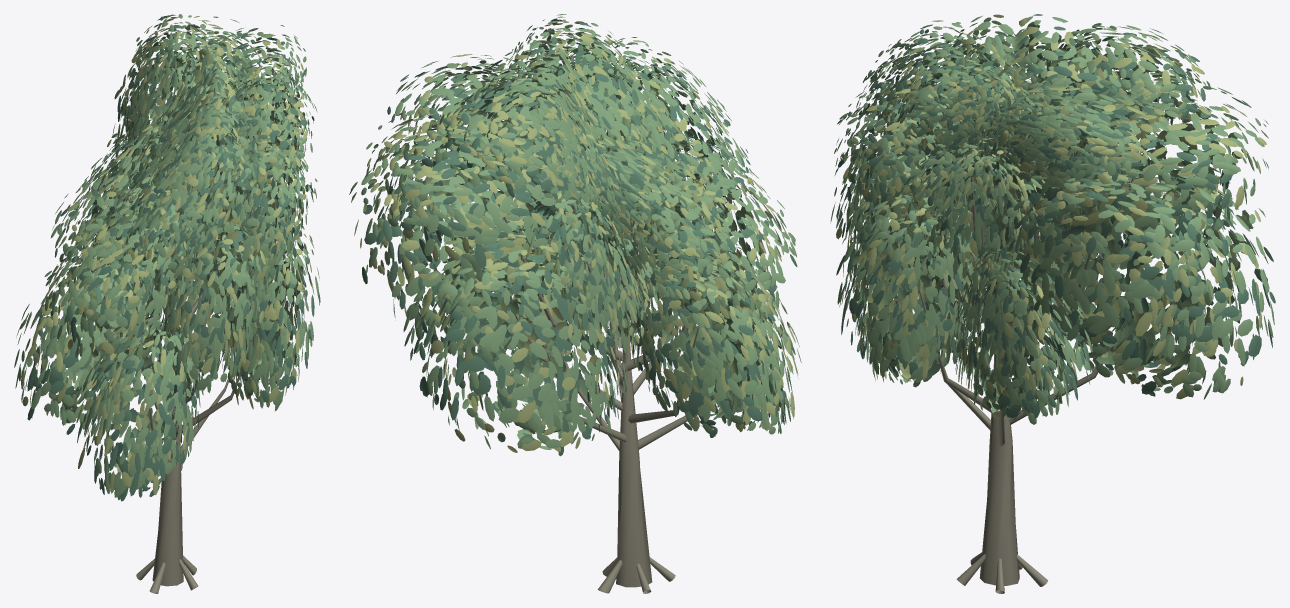
The model's file is grove_6.glb.
3 views of the same model, side by side, from view 1: azimuth 30°, elevation 25°; view 2: azimuth 150°, elevation 25°; view 3: azimuth 270°, elevation 25° (orthographic). The views are drawn at different scales.
Parts seen in each view (by area): view 1: study_canopy_0_StudyLeafJade, study_canopy_0_StudyLeafDeep, study_canopy_0_StudyLeafGold, study_canopy_0_StudyBark; view 2: study_canopy_0_StudyLeafJade, study_canopy_0_StudyLeafDeep, study_canopy_0_StudyLeafGold, study_canopy_0_StudyBark; view 3: study_canopy_0_StudyLeafJade, study_canopy_0_StudyLeafDeep, study_canopy_0_StudyLeafGold, study_canopy_0_StudyBark.
Part boxes in pixels (x1,y1,x2,y2): study_canopy_0_StudyLeafJade: [14, 14, 319, 500]; study_canopy_0_StudyLeafDeep: [21, 14, 320, 501]; study_canopy_0_StudyLeafGold: [16, 16, 319, 495]; study_canopy_0_StudyBark: [107, 117, 268, 593]; study_canopy_0_StudyLeafJade: [351, 14, 801, 449]; study_canopy_0_StudyLeafDeep: [349, 18, 797, 456]; study_canopy_0_StudyLeafGold: [354, 21, 798, 452]; study_canopy_0_StudyBark: [493, 88, 729, 593]; study_canopy_0_StudyLeafJade: [830, 16, 1274, 424]; study_canopy_0_StudyLeafDeep: [836, 14, 1275, 420]; study_canopy_0_StudyLeafGold: [834, 14, 1268, 418]; study_canopy_0_StudyBark: [904, 120, 1143, 593].
Bounding box in the file's own units: 7.41 × 10.82 × 7.26.
